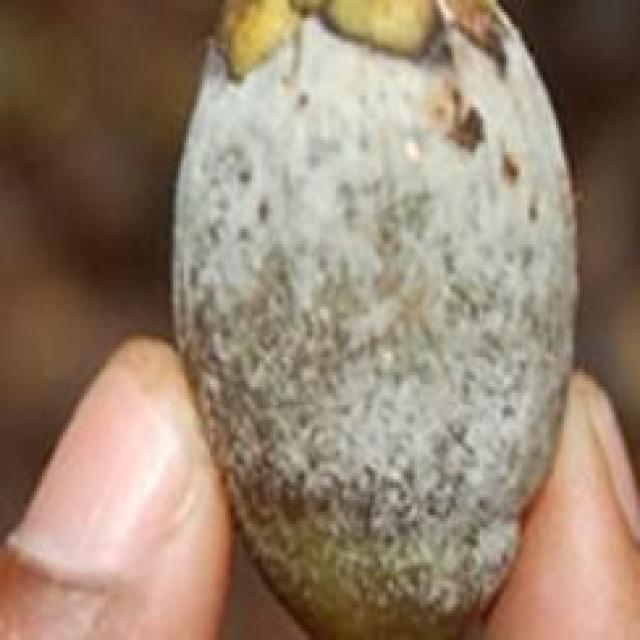damaged: (170, 0, 577, 637)
